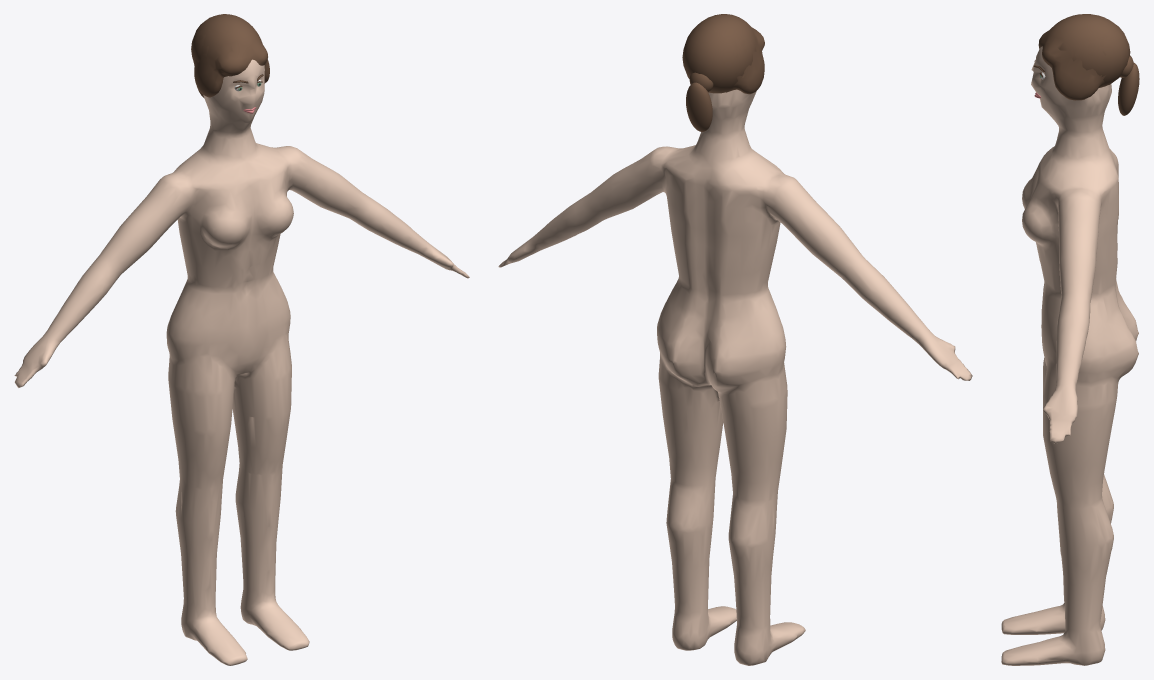
File: Char_Female_Base.fbx
The picture shows the model from 3 angles, left to right: view 1: azimuth 30°, elevation 25°; view 2: azimuth 150°, elevation 25°; view 3: azimuth 270°, elevation 25°; orthographic projection. The views are drawn at different scales.
Visible parts, largest first — view 1: Char_Female_Base; view 2: Char_Female_Base; view 3: Char_Female_Base.
Part boxes in pixels (bbox=[...]): Char_Female_Base: bbox=[14, 14, 469, 665]; Char_Female_Base: bbox=[498, 14, 972, 665]; Char_Female_Base: bbox=[1001, 14, 1139, 665].
Bounding box in the file's own units: 1.33 × 0.342 × 1.72.
